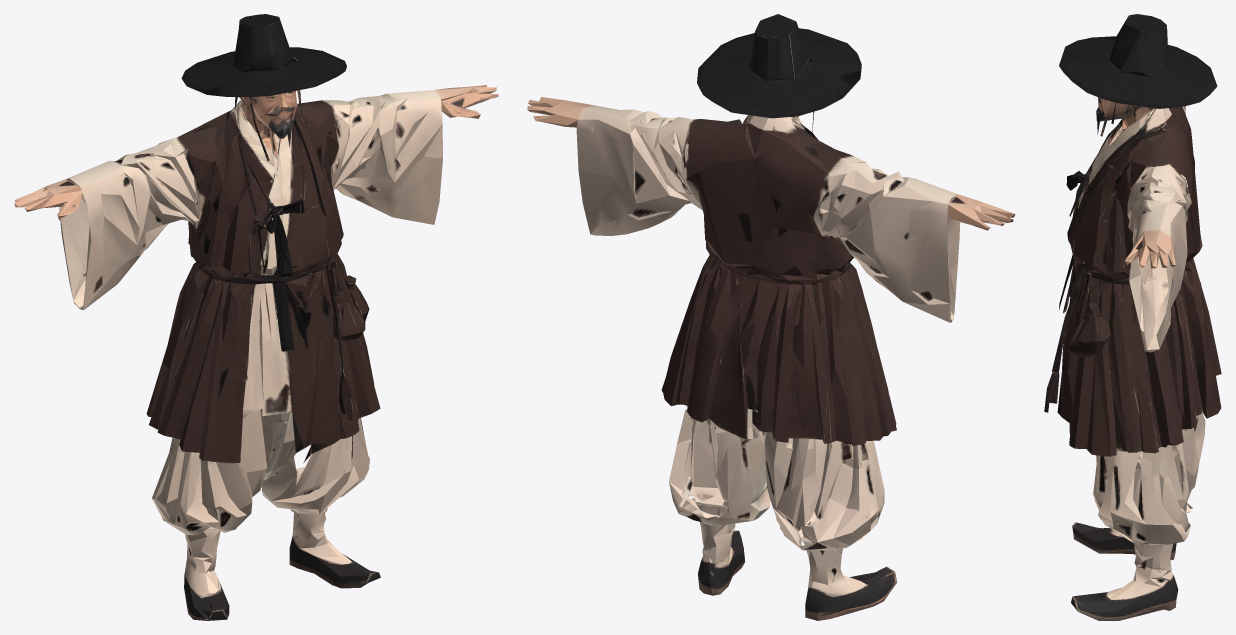
The model's file is H1_merchant_raw.glb.
3 views of the same model, side by side, from view 1: azimuth 30°, elevation 25°; view 2: azimuth 150°, elevation 25°; view 3: azimuth 270°, elevation 25° (orthographic). The views are drawn at different scales.
Bounding box in the file's own units: 1.68 × 1.9 × 0.5451.
Materials: 1 (1 with a texture image).
